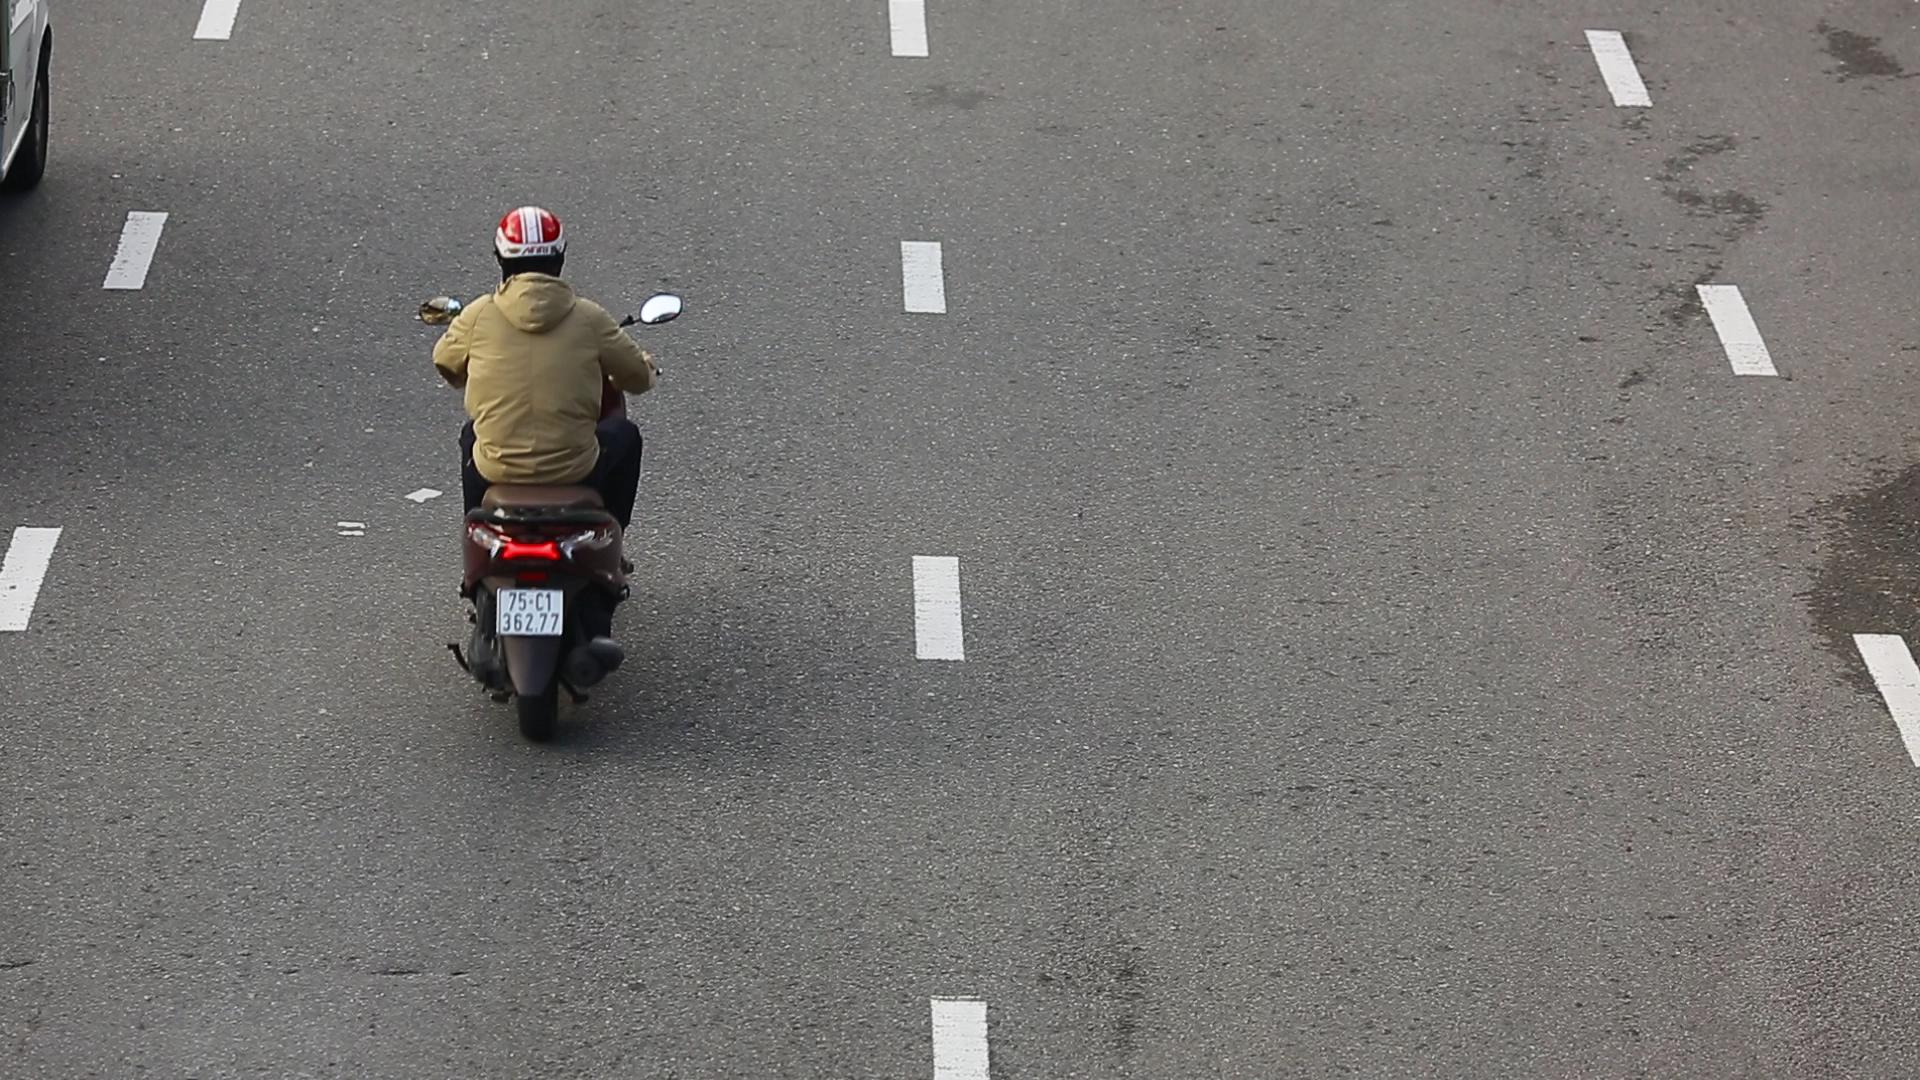motobike: (413, 179, 692, 758)
